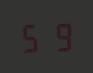five: (19, 20, 45, 53)
nine: (46, 20, 72, 52)
